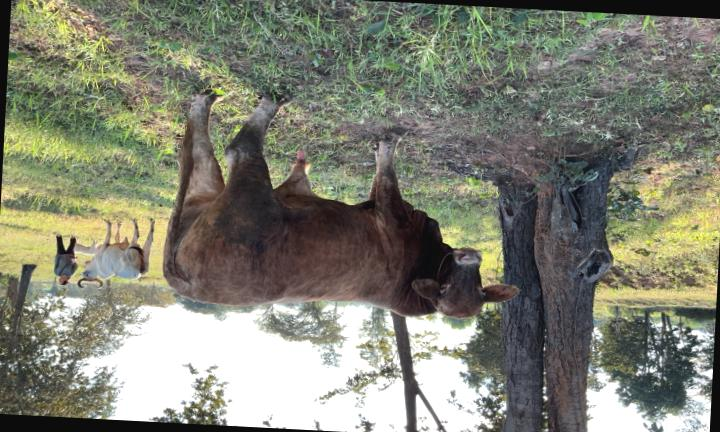Charolais: (163, 94, 519, 318)
